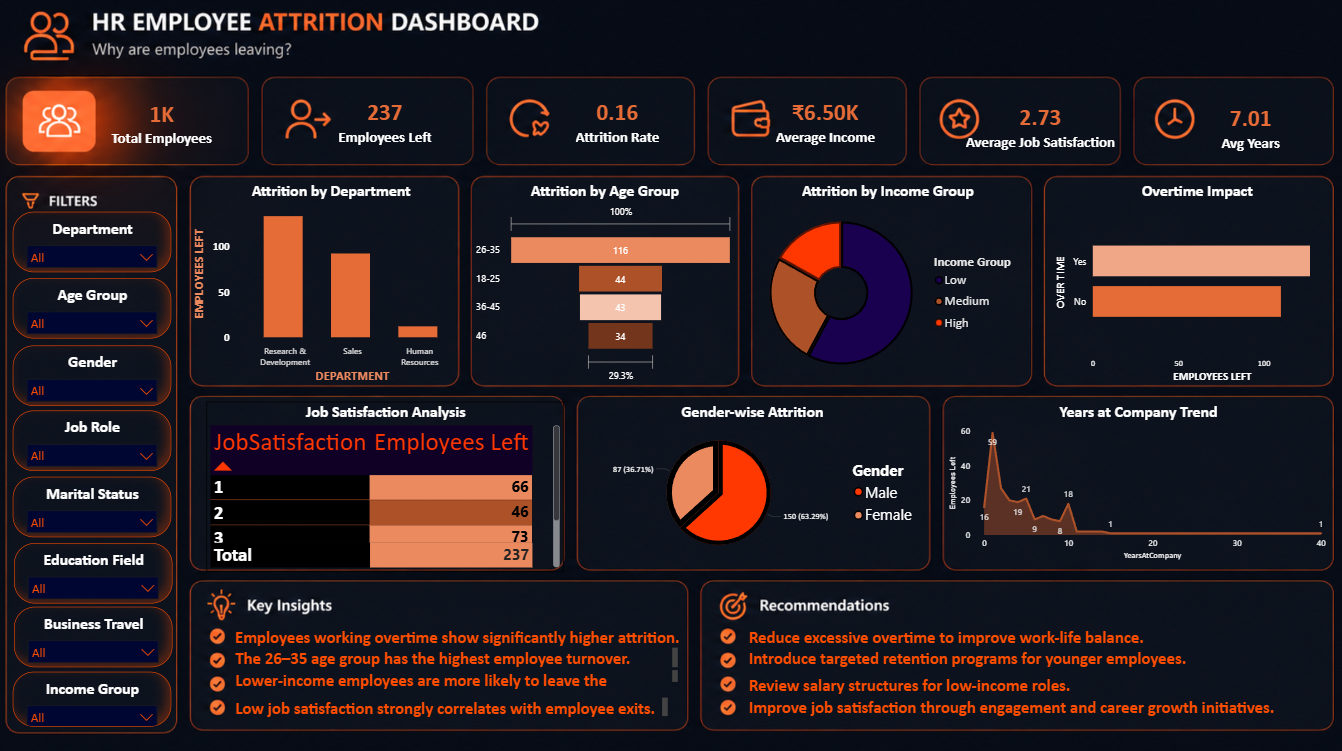

The dashboard page shown, as its layout file describes it:
{"tool":"powerbi","page":{"name":"Page 1","canvas":[1920,1080],"ordinal":0},"visuals":[{"type":"cardVisual","fields":{"Data":["Employee.Total Employees"]},"box":[112.7,119,240.1,119],"z":0},{"type":"cardVisual","fields":{"Data":["Employee.Employees Left"]},"box":[425.9,118.5,250,118.5],"z":1000},{"type":"cardVisual","fields":{"Data":["Employee.Attrition Rate"]},"box":[746.3,118.5,274.1,118.5],"z":2000},{"type":"cardVisual","fields":{"Data":["Employee.Average Income"]},"box":[1066.7,118.5,229.6,118.5],"z":3000},{"type":"cardVisual","fields":{"Data":["Employee.Average Job Satisfaction"]},"box":[1351.9,118.5,272.2,131.5],"z":4000},{"type":"cardVisual","fields":{"Data":["Employee.Avg Years"]},"box":[1657.4,120.4,263,131.5],"z":5000},{"type":"columnChart","title":"Attrition by Department","fields":{"Category":["Employee.Department"],"Y":["Employee.Employees Left"]},"box":[273.8,261.2,402.5,293.8],"z":6000},{"type":"funnel","title":"Attrition by Age Group","fields":{"Category":["Employee.Age Group"],"Y":["Employee.Employees Left"]},"box":[676.2,261.2,377.5,293.8],"z":7000},{"type":"donutChart","title":"Attrition by Income Group","fields":{"Category":["Employee.Income Group"],"Y":["Employee.Employees Left"]},"box":[1066.2,261.2,407.5,293.8],"z":8000},{"type":"barChart","title":"Overtime Impact","fields":{"Category":["Employee.OverTime"],"Y":["Employee.Employees Left"]},"box":[1503.8,261.2,416.2,293.8],"z":9000},{"type":"pivotTable","title":"Job Satisfaction Analysis","fields":{"Values":["Employee.Employees Left"],"Rows":["Employee.JobSatisfaction"]},"box":[296.4,576.8,510.7,242.9],"z":10000},{"type":"lineChart","title":"Years at Company Trend","fields":{"Y":["Employee.Employees Left"],"Category":["Employee.YearsAtCompany"]},"box":[1352,576,552,232],"z":11000},{"type":"pieChart","title":"Gender-wise Attrition","fields":{"Category":["Employee.Gender"],"Y":["Employee.Employees Left"]},"box":[832,576,488,232],"z":12000},{"type":"slicer","title":" Department","fields":{"Values":["Employee.Department"]},"box":[20,306,226,86],"z":13000},{"type":"slicer","title":"Age Group","fields":{"Values":["Employee.Age Group"]},"box":[20,400,226,86],"z":14000},{"type":"slicer","title":"Gender","fields":{"Values":["Employee.Gender"]},"box":[20,496,226,86],"z":15000},{"type":"slicer","title":"Job Role","fields":{"Values":["Employee.JobRole"]},"box":[20,590,226,86],"z":16000},{"type":"slicer","title":"Marital Status","fields":{"Values":["Employee.MaritalStatus"]},"box":[20,684,226,86],"z":17000},{"type":"slicer","title":"Education Field","fields":{"Values":["Employee.EducationField"]},"box":[22,778,226,86],"z":18000},{"type":"slicer","title":"Business Travel","fields":{"Values":["Employee.BusinessTravel"]},"box":[22,870,226,86],"z":19000},{"type":"slicer","title":"Income Group","fields":{"Values":["Employee.Income Group"]},"box":[20,962,226,78],"z":19001},{"type":"textbox","box":[332,892,662,44],"z":19002},{"type":"textbox","box":[332.2,923.7,642.4,39],"z":19003},{"type":"textbox","box":[332.2,955.9,642.4,37.3],"z":19004},{"type":"textbox","box":[332,994,628,38],"z":19005},{"type":"textbox","box":[1066,892,838,44],"z":19006},{"type":"textbox","box":[1066,924,822,40],"z":19007},{"type":"textbox","box":[1066,962,838,44],"z":19008},{"type":"textbox","box":[1066,992,786,40],"z":19009}]}

Visuals, with their boxes in screenshot pixels (x1, y1, x2, y2), scaled from the page's 1920x1080 canvas onto the 1342x751 screenshot:
cardVisual - Employee.Total Employees: <bbox>79, 83, 247, 165</bbox>
cardVisual - Employee.Employees Left: <bbox>298, 82, 472, 165</bbox>
cardVisual - Employee.Attrition Rate: <bbox>522, 82, 713, 165</bbox>
cardVisual - Employee.Average Income: <bbox>746, 82, 906, 165</bbox>
cardVisual - Employee.Average Job Satisfaction: <bbox>945, 82, 1135, 174</bbox>
cardVisual - Employee.Avg Years: <bbox>1158, 84, 1341, 175</bbox>
"Attrition by Department" columnChart: <bbox>191, 182, 473, 386</bbox>
"Attrition by Age Group" funnel: <bbox>473, 182, 736, 386</bbox>
"Attrition by Income Group" donutChart: <bbox>745, 182, 1030, 386</bbox>
"Overtime Impact" barChart: <bbox>1051, 182, 1341, 386</bbox>
"Job Satisfaction Analysis" pivotTable: <bbox>207, 401, 564, 570</bbox>
"Years at Company Trend" lineChart: <bbox>945, 401, 1331, 562</bbox>
"Gender-wise Attrition" pieChart: <bbox>582, 401, 923, 562</bbox>
" Department" slicer: <bbox>14, 213, 172, 273</bbox>
"Age Group" slicer: <bbox>14, 278, 172, 338</bbox>
"Gender" slicer: <bbox>14, 345, 172, 405</bbox>
"Job Role" slicer: <bbox>14, 410, 172, 470</bbox>
"Marital Status" slicer: <bbox>14, 476, 172, 535</bbox>
"Education Field" slicer: <bbox>15, 541, 173, 601</bbox>
"Business Travel" slicer: <bbox>15, 605, 173, 665</bbox>
"Income Group" slicer: <bbox>14, 669, 172, 723</bbox>
textbox: <bbox>232, 620, 695, 651</bbox>
textbox: <bbox>232, 642, 681, 669</bbox>
textbox: <bbox>232, 665, 681, 691</bbox>
textbox: <bbox>232, 691, 671, 718</bbox>
textbox: <bbox>745, 620, 1331, 651</bbox>
textbox: <bbox>745, 643, 1320, 670</bbox>
textbox: <bbox>745, 669, 1331, 700</bbox>
textbox: <bbox>745, 690, 1294, 718</bbox>
